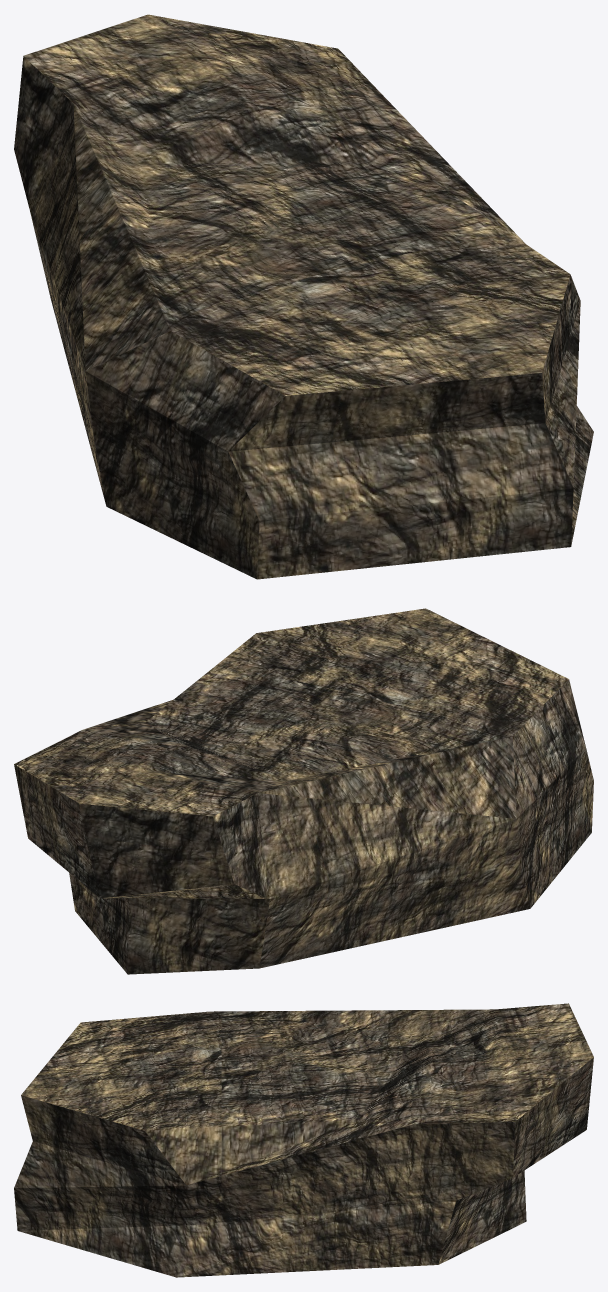
Rendered from big rock 2.obj.
3 views of the same model, one above another, from view 1: azimuth 30°, elevation 25°; view 2: azimuth 150°, elevation 25°; view 3: azimuth 270°, elevation 25° (orthographic). The views are drawn at different scales.
Parts seen in each view (by area): view 1: Circle; view 2: Circle; view 3: Circle.
Part boxes in pixels (box(x1,y1,x2,y2)): Circle: box(14, 14, 593, 579); Circle: box(14, 608, 593, 974); Circle: box(14, 1003, 593, 1277).
Bounding box in the file's own units: 3.27 × 1.72 × 5.23.
